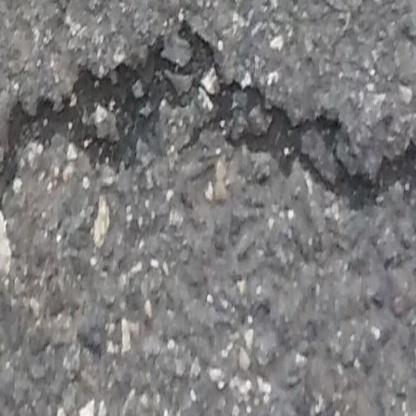Cracks: (0, 13, 416, 217)
